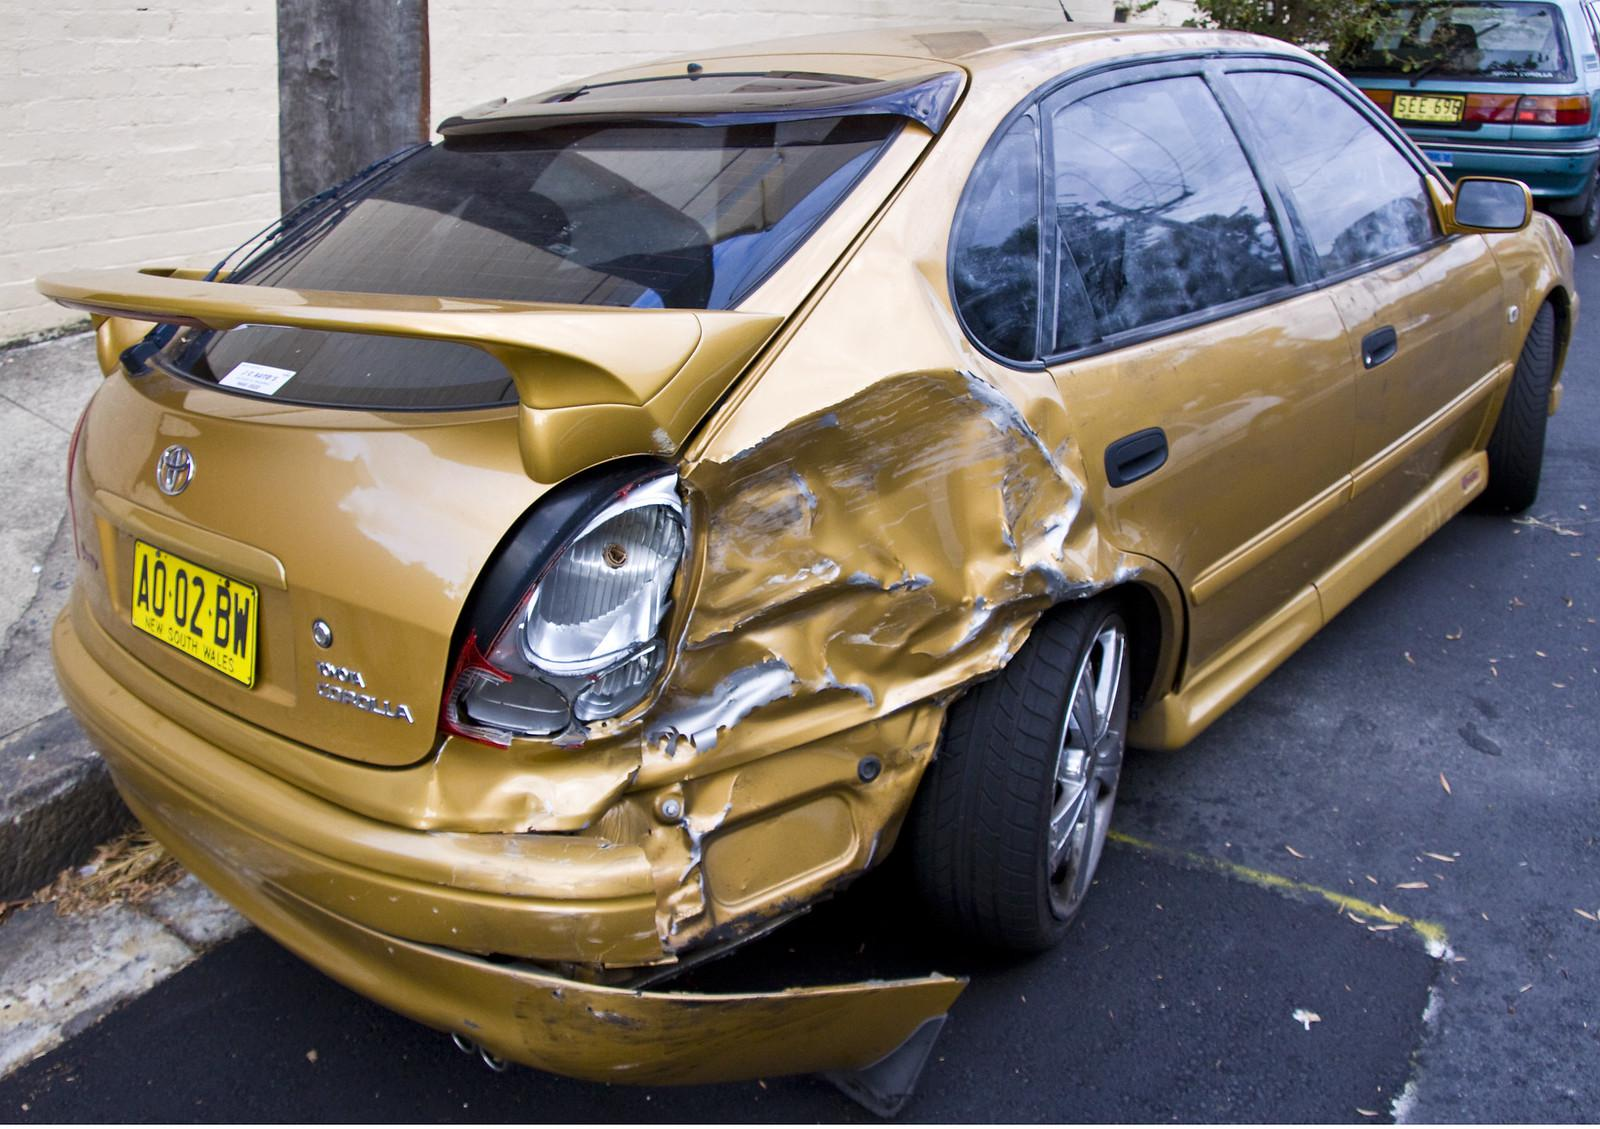quaterpanel-dent: (575, 387, 1064, 887)
rear-bumper-dent: (0, 660, 881, 1026)
